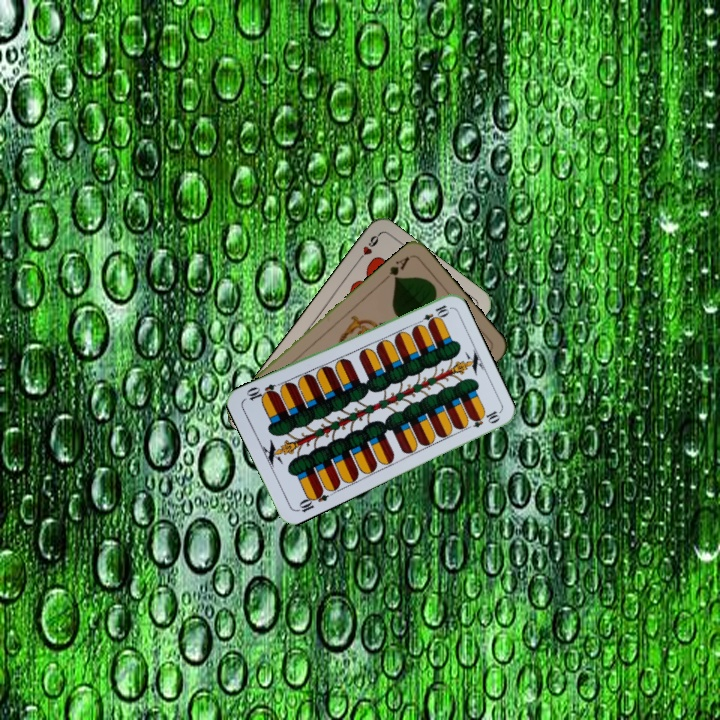E10: (293, 485, 331, 515), (413, 301, 451, 328)
GA: (380, 252, 412, 284)
H9: (353, 230, 382, 265)
